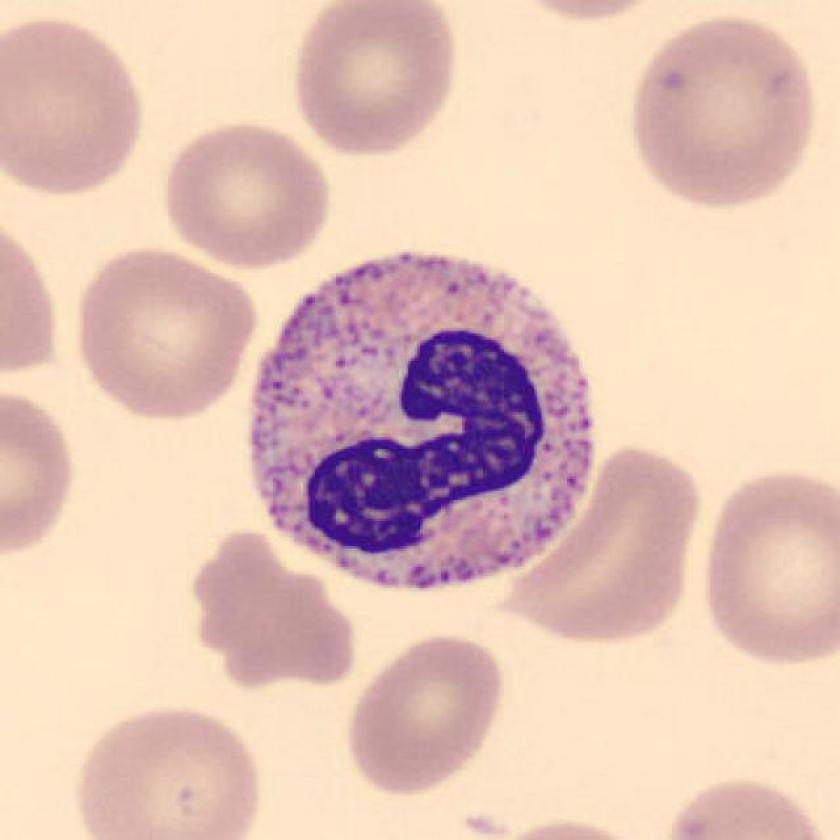neutrophil: (256, 253, 596, 594)
